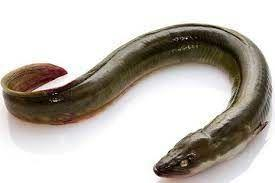Freshwater Eel: (0, 21, 274, 179)
